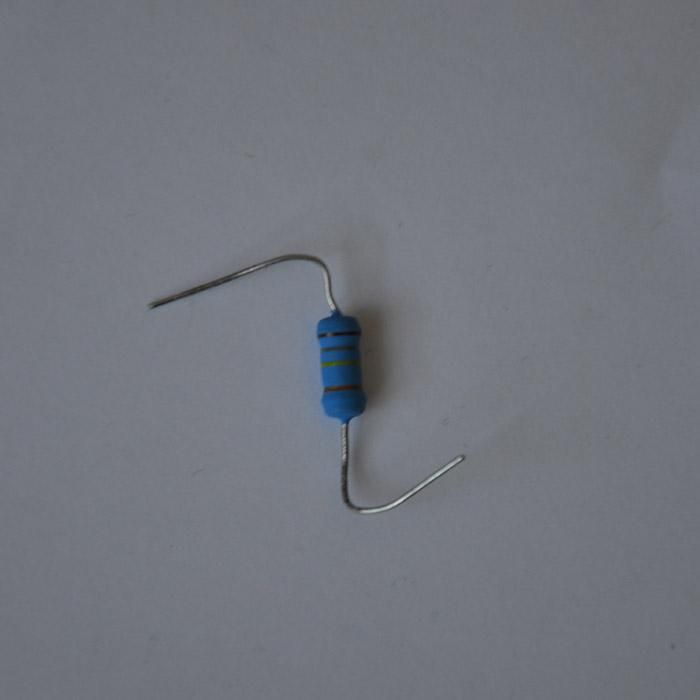resistor: (316, 310, 366, 423)
